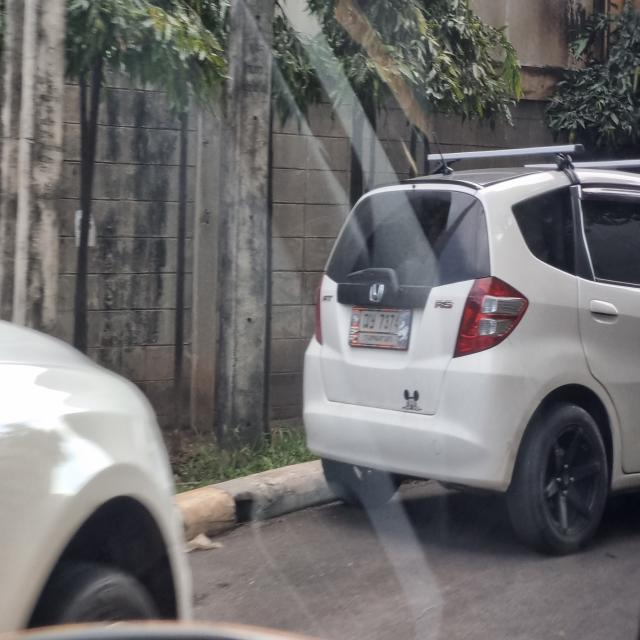license_plate: (348, 300, 413, 354)
